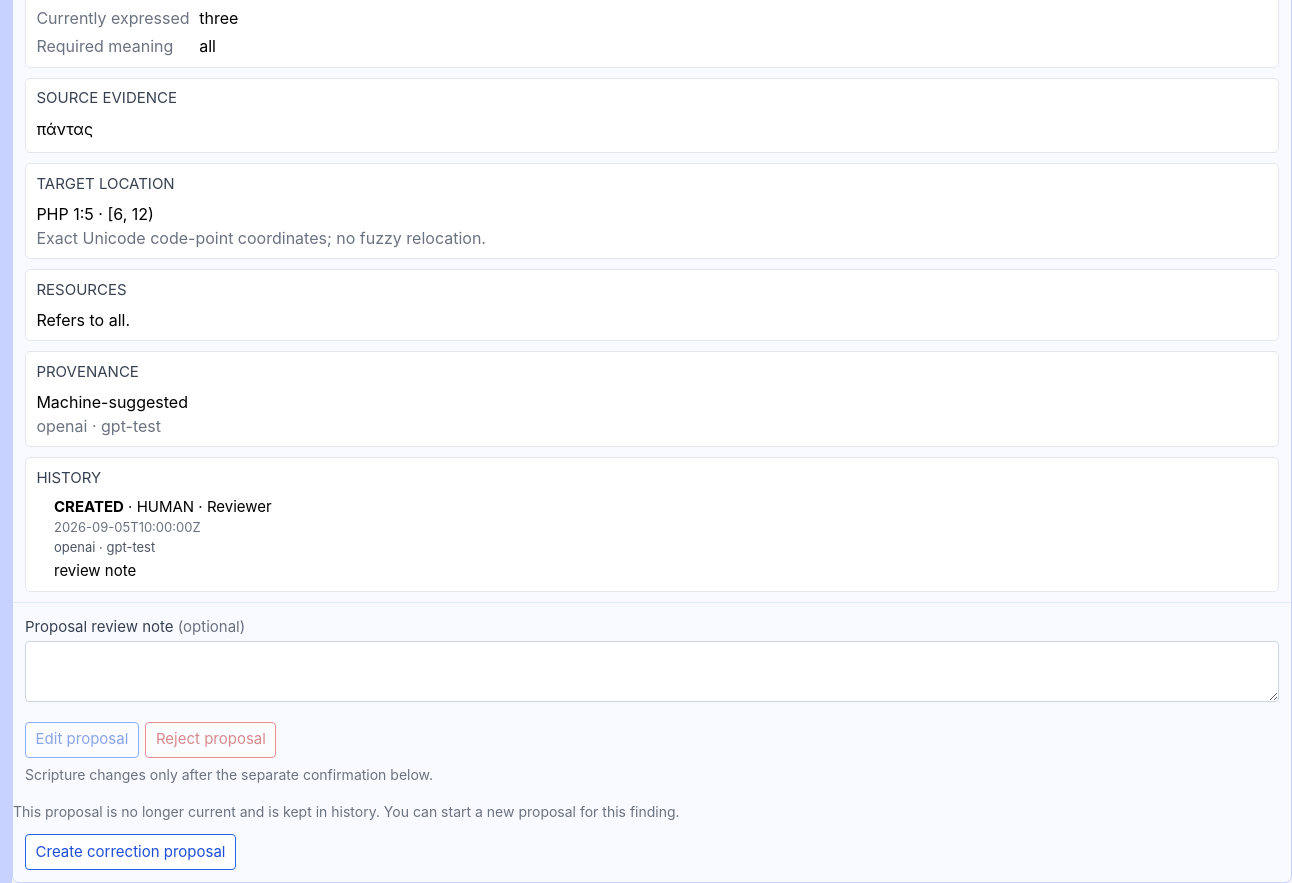
Test: CorrectionReviewPanel › #315: a new proposal after a rejection › shows the create actions below a rejected proposal, without a provider too
(page scrolled)
Expected: the button "Edit proposal" is disabled, [25, 722, 139, 758]
What coordinates should you click on to do the following:
click the button "Create correction proposal"
I would click on:
 (131, 852)
Its box is [25, 834, 236, 870].
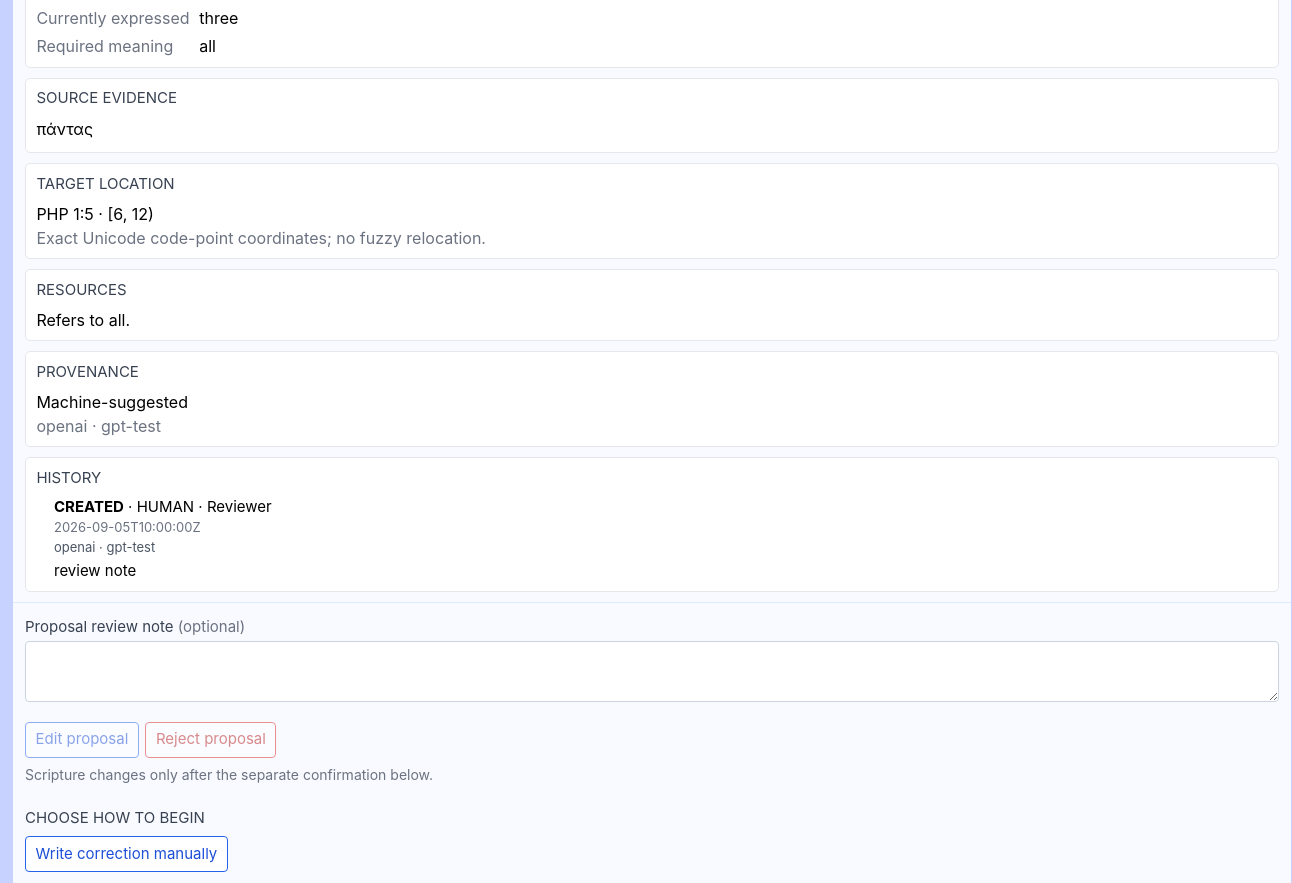
Now the button "Write correction manually" is shown, box [25, 836, 228, 872]
